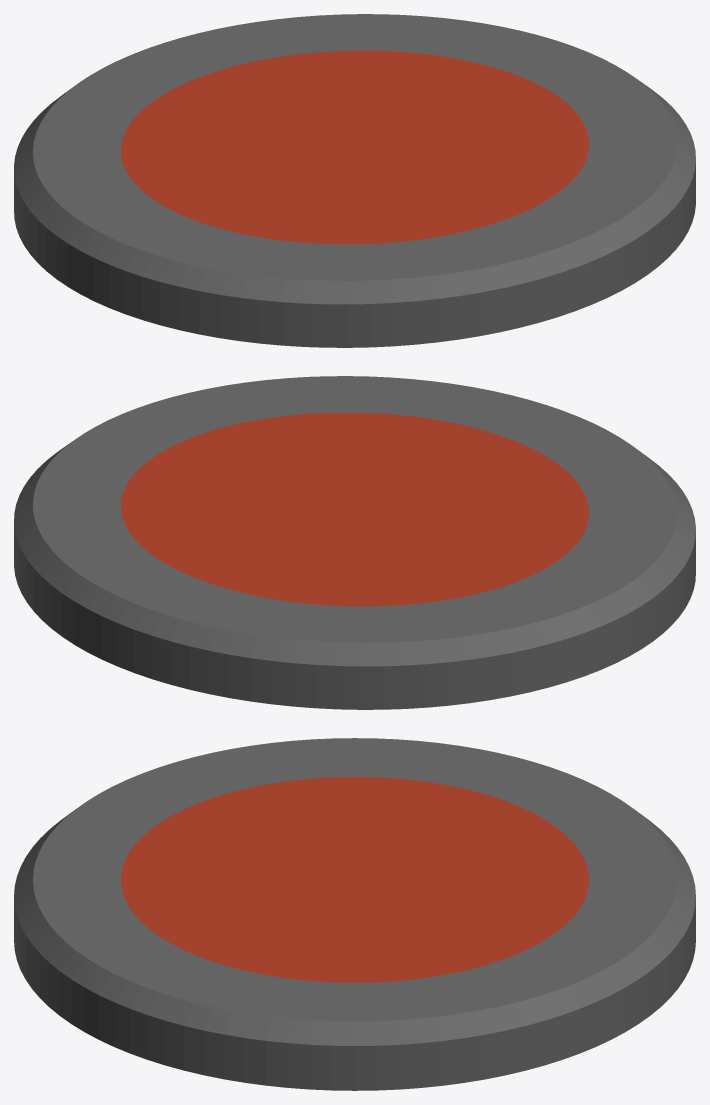
File: Platform.fbx
3 views of the same model, one above another, from view 1: azimuth 30°, elevation 25°; view 2: azimuth 150°, elevation 25°; view 3: azimuth 270°, elevation 25° (orthographic). The views are drawn at different scales.
Parts seen in each view (by area): view 1: Platform; view 2: Platform; view 3: Platform.
Part boxes in pixels (x1,y1,x2,y2): Platform: [14, 14, 695, 347]; Platform: [14, 376, 695, 709]; Platform: [14, 738, 695, 1090].
Size of the model in its own units: 11.88 by 1.13 by 11.41.
